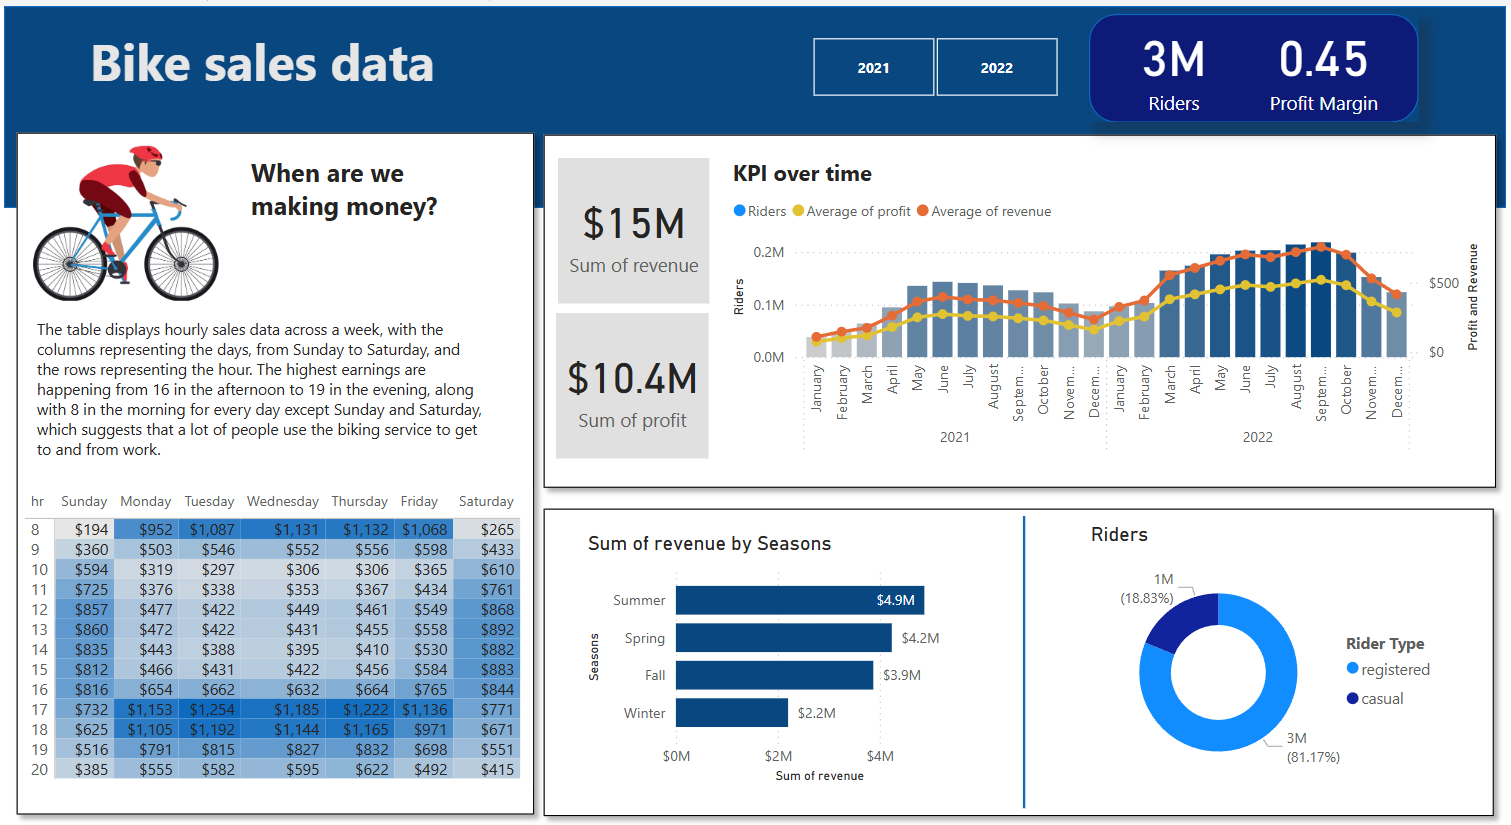

The page's visual inventory and layout, read from the dashboard file:
{"tool":"powerbi","page":{"name":"Page 1","canvas":[1280,720],"ordinal":0},"visuals":[{"type":"shape","box":[0,0,1280,172.2],"z":0},{"type":"shape","box":[1.9,99.2,415.3,599.1],"z":1000},{"type":"shape","box":[415.3,100.2,864.7,308.3],"z":2000},{"type":"shape","box":[924.8,6.8,280.8,92.5],"z":3000},{"type":"shape","box":[416.3,419.2,861.8,280.1],"z":4000},{"type":"shape","box":[792.7,433.8,76.8,249],"z":5000},{"type":"lineClusteredColumnComboChart","title":"KPI over time","fields":{"Category":["Query1.dteday.Variation.Date Hierarchy.Year","Query1.dteday.Variation.Date Hierarchy.Month"],"Y":["Sum(Query1.riders)"],"Y2":["Avg(Query1.profit)","Avg(Query1.revenue)"]},"box":[582.6,129.4,683.8,252.9],"z":6000},{"type":"barChart","fields":{"Category":["Query1.Seasons"],"Y":["Sum(Query1.revenue)"]},"box":[453.3,446.4,342.4,218.8],"z":7000},{"type":"pivotTable","fields":{"Values":["Avg(Query1.revenue)"],"Columns":["Query1.weekday"],"Rows":["Query1.hr"]},"box":[23.3,408.5,371.6,257.8],"z":8000},{"type":"textbox","box":[205.2,121.6,180.9,78.8],"z":9000},{"type":"image","box":[12.6,113.8,181.9,142],"z":10000},{"type":"donutChart","title":"Riders","fields":{"Category":["Query1.rider_type"],"Y":["Sum(Query1.riders)"]},"box":[879.3,439.6,353.1,235.4],"z":11000},{"type":"slicer","fields":{"Values":["Query1.Years"]},"box":[624.4,18.5,257.8,63.2],"z":12000},{"type":"card","fields":{"Values":["Sum(Query1.revenue)"]},"box":[433.8,128.4,139.1,124.5],"z":13000},{"type":"card","fields":{"Values":["Sum(Query1.profit)"]},"box":[433.8,263.6,140.1,124.5],"z":14000},{"type":"card","title":"Profit Margin","fields":{"Values":["Query1.Profit Margin"]},"box":[1065.7,0,117.3,101.5],"z":15000},{"type":"card","title":"Profit Margin","fields":{"Values":["Sum(Query1.riders)"]},"box":[938.3,0,117.3,101.5],"z":16000},{"type":"textbox","box":[68.1,12.6,306.4,70],"z":17000},{"type":"textbox","box":[23.3,261.6,362.8,127.4],"z":18000}]}

Visuals, with their boxes on the page's 1280x720 design canvas (x1, y1, x2, y2). These are canvas units, not pixel positions in the 1511x825 screenshot, which may show the page scaled, cropped or inside an application window:
shape: detection(0, 0, 1280, 172)
shape: detection(2, 99, 417, 698)
shape: detection(415, 100, 1280, 408)
shape: detection(925, 7, 1206, 99)
shape: detection(416, 419, 1278, 699)
shape: detection(793, 434, 870, 683)
"KPI over time" lineClusteredColumnComboChart: detection(583, 129, 1266, 382)
barChart - Query1.Seasons x Sum(Query1.revenue): detection(453, 446, 796, 665)
pivotTable - Avg(Query1.revenue) x Query1.weekday: detection(23, 408, 395, 666)
textbox: detection(205, 122, 386, 200)
image: detection(13, 114, 194, 256)
"Riders" donutChart: detection(879, 440, 1232, 675)
slicer - Query1.Years: detection(624, 18, 882, 82)
card - Sum(Query1.revenue): detection(434, 128, 573, 253)
card - Sum(Query1.profit): detection(434, 264, 574, 388)
"Profit Margin" card: detection(1066, 0, 1183, 102)
"Profit Margin" card: detection(938, 0, 1056, 102)
textbox: detection(68, 13, 374, 83)
textbox: detection(23, 262, 386, 389)
